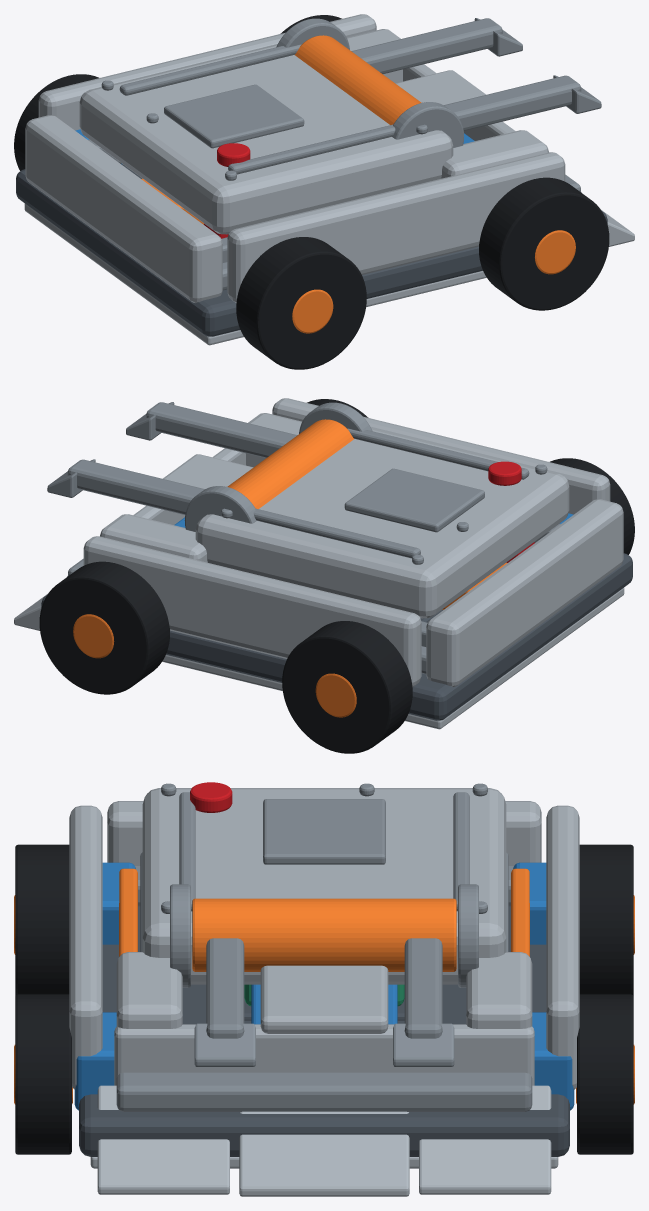
Rendered from TITAN_X_MOBILE.glb.
3 views of the same model, one above another, from view 1: azimuth 30°, elevation 25°; view 2: azimuth 150°, elevation 25°; view 3: azimuth 270°, elevation 25° (orthographic). The views are drawn at different scales.
Visible parts, largest first — view 1: removable_service_cover, side_armor_right, rear_armor_bumper, wheel_2, wheel_4, chassis_floor, controller_access_panel, protected_lift_shaft, side_armor_left, lift_arm_left, lift_arm_right, bottom_skid_plate (+15 smaller); view 2: removable_service_cover, side_armor_left, rear_armor_bumper, wheel_1, wheel_3, chassis_floor, controller_access_panel, protected_lift_shaft, side_armor_right, lift_arm_right, lift_arm_left, bottom_skid_plate (+15 smaller); view 3: removable_service_cover, chassis_floor, front_mounting_zone, protected_lift_shaft, front_protective_bulkhead, front_wedge_center, wheel_1, wheel_2, front_center_deck, side_armor_left, side_armor_right, wheel_3 (+23 smaller).
Boxes of the visible parts, x1,y1,x2,y2 form: removable_service_cover: [79, 44, 453, 234]; side_armor_right: [227, 152, 565, 303]; rear_armor_bumper: [25, 115, 222, 303]; wheel_2: [479, 177, 609, 310]; wheel_4: [236, 237, 366, 369]; chassis_floor: [16, 164, 607, 336]; controller_access_panel: [164, 84, 304, 148]; protected_lift_shaft: [295, 35, 421, 124]; side_armor_left: [38, 14, 376, 130]; lift_arm_left: [351, 18, 502, 73]; lift_arm_right: [444, 75, 581, 130]; bottom_skid_plate: [24, 203, 486, 345]; removable_service_cover: [195, 428, 569, 618]; side_armor_left: [83, 536, 421, 687]; rear_armor_bumper: [426, 499, 623, 687]; wheel_1: [39, 561, 169, 694]; wheel_3: [282, 621, 412, 753]; chassis_floor: [41, 553, 632, 720]; controller_access_panel: [344, 468, 484, 532]; protected_lift_shaft: [227, 419, 353, 508]; side_armor_right: [272, 398, 610, 514]; lift_arm_right: [146, 402, 297, 457]; lift_arm_left: [67, 459, 204, 514]; bottom_skid_plate: [162, 587, 624, 729]; removable_service_cover: [142, 788, 506, 984]; chassis_floor: [79, 906, 569, 1156]; front_mounting_zone: [116, 1072, 532, 1111]; protected_lift_shaft: [192, 898, 456, 971]; front_protective_bulkhead: [114, 1024, 534, 1085]; front_wedge_center: [239, 1111, 409, 1196]; wheel_1: [577, 994, 633, 1154]; wheel_2: [15, 994, 71, 1154]; front_center_deck: [260, 965, 388, 1033]; side_armor_left: [546, 805, 579, 1089]; side_armor_right: [69, 805, 102, 1089]; wheel_3: [579, 844, 633, 995].
Bounding box in the file's own units: 274 × 102 × 263.
